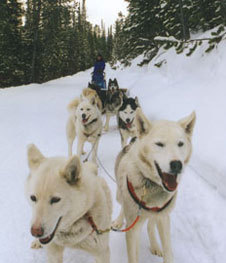dog: (113, 107, 198, 262), (23, 141, 113, 262), (67, 97, 103, 166), (107, 78, 127, 105)
